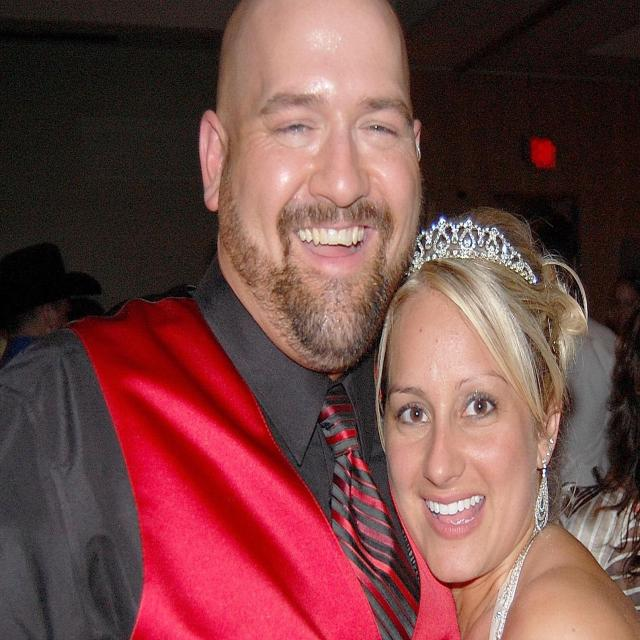no-glass: (390, 388, 500, 427), (273, 119, 397, 141)
